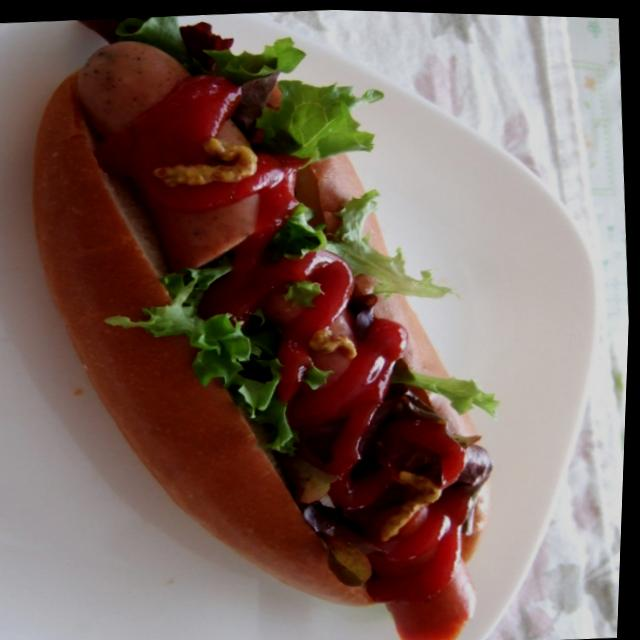汉堡快餐: (1, 0, 533, 640)
